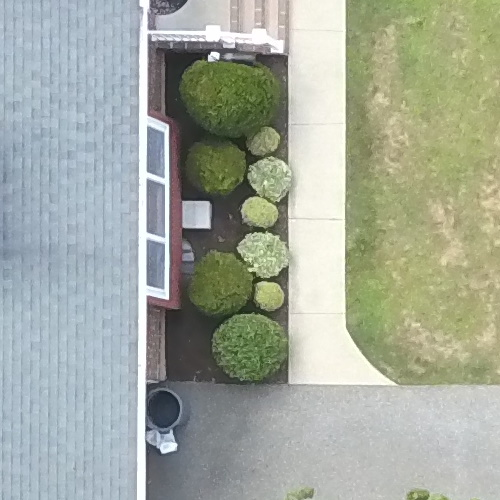garbage bin: (142, 381, 195, 438)
